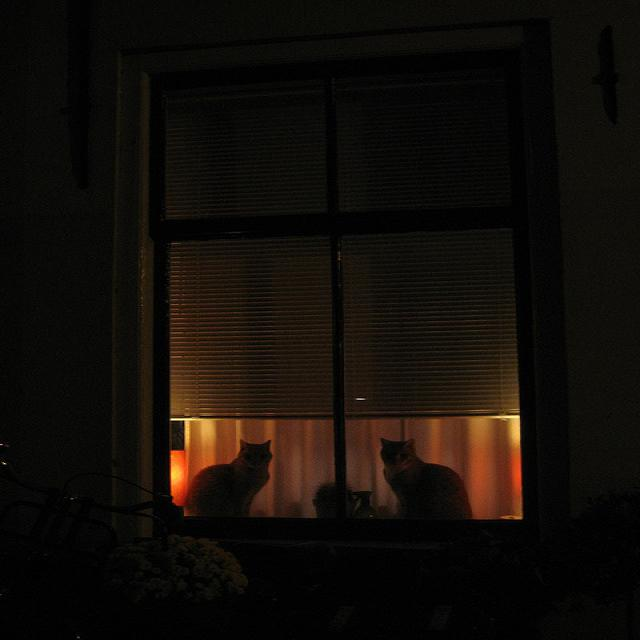Bicycle: (0, 454, 246, 640)
Cat: (162, 427, 287, 528), (384, 423, 476, 543)
